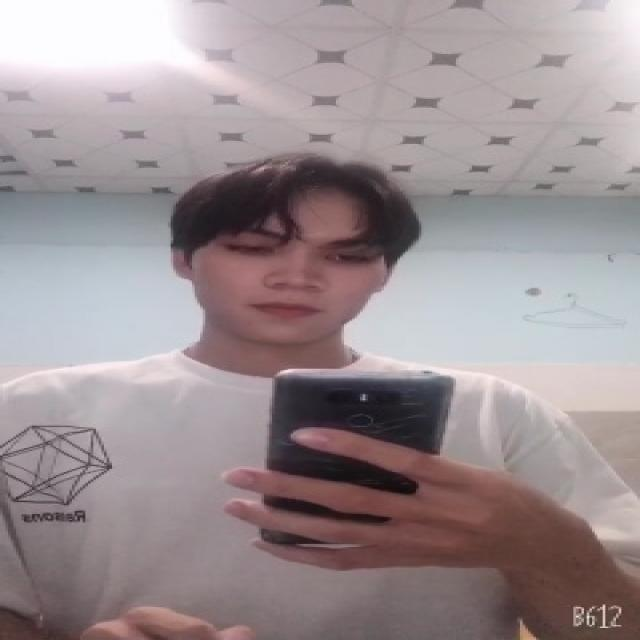Phone: (260, 368, 452, 542)
